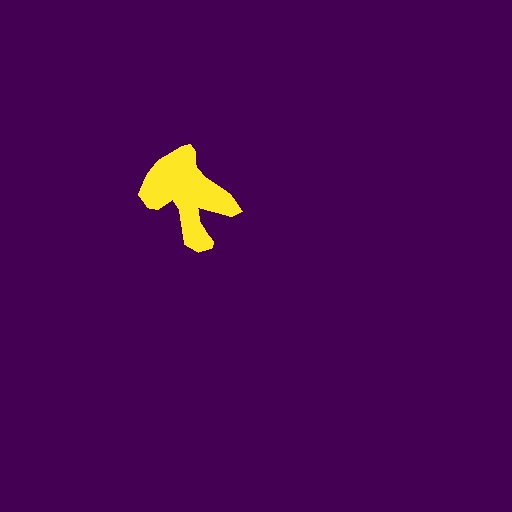Gliomia_tumour: (138, 144, 243, 253)
